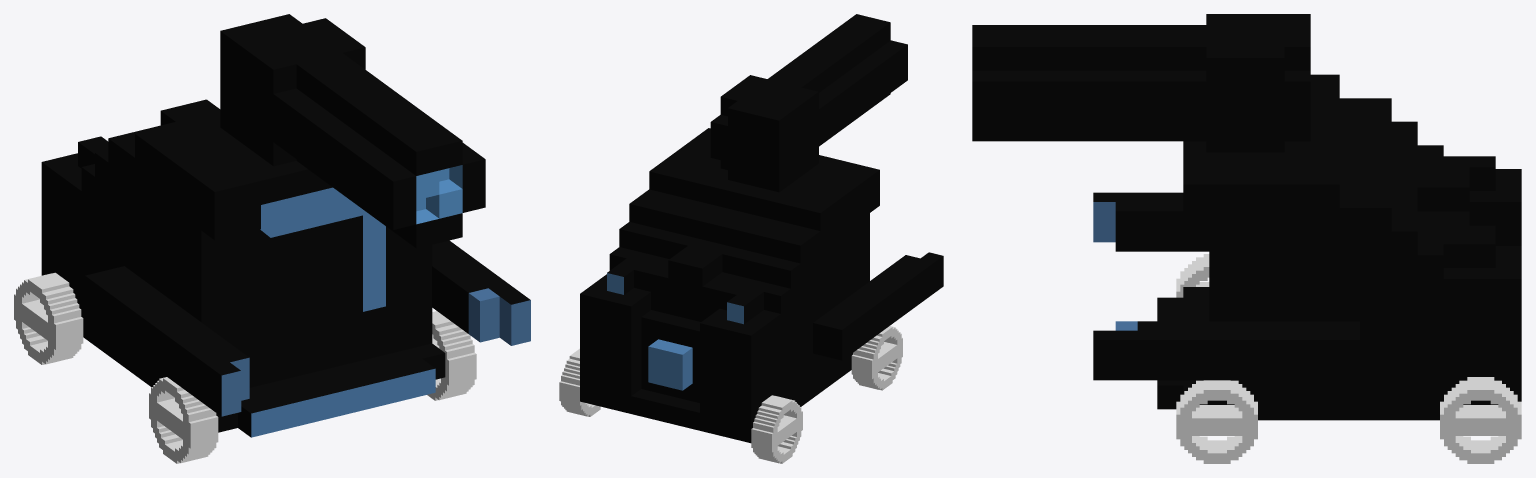
The model's file is LittleRobot.fbx.
3 renders of one model, left to right at view 1: azimuth 30°, elevation 25°; view 2: azimuth 150°, elevation 25°; view 3: azimuth 270°, elevation 25°, orthographic. The views are drawn at different scales.
Visible parts, largest first — view 1: Untitled, Untitled.004, Untitled.005, Untitled.001, Object_6.002, Object_6.003, Object_6; view 2: Untitled, Untitled.004, Untitled.005, Object_6.002, Object_6.003, Object_6.001; view 3: Untitled, Untitled.004, Untitled.001, Untitled.005, Object_6.001, Object_6, Object_6.003.
Part boxes in pixels (box(x1,y1,x2,y2)): Untitled: box(41, 99, 445, 437); Untitled.004: box(220, 14, 485, 248); Untitled.005: box(85, 266, 249, 416); Untitled.001: box(432, 240, 530, 345); Object_6.002: box(14, 272, 83, 364); Object_6.003: box(149, 377, 218, 463); Object_6: box(427, 311, 476, 400); Untitled: box(580, 128, 879, 443); Untitled.004: box(710, 14, 907, 192); Untitled.005: box(813, 252, 943, 360); Object_6.002: box(751, 395, 802, 463); Object_6.003: box(851, 326, 902, 390); Object_6.001: box(559, 348, 600, 416); Untitled: box(1157, 74, 1521, 420); Untitled.004: box(972, 14, 1310, 152); Untitled.001: box(1093, 321, 1359, 380); Untitled.005: box(1093, 192, 1209, 251); Object_6.001: box(1440, 377, 1521, 463); Object_6: box(1176, 380, 1257, 463); Object_6.003: box(1176, 254, 1209, 297).
Bounding box in the file's own units: 211 × 240 × 332.
